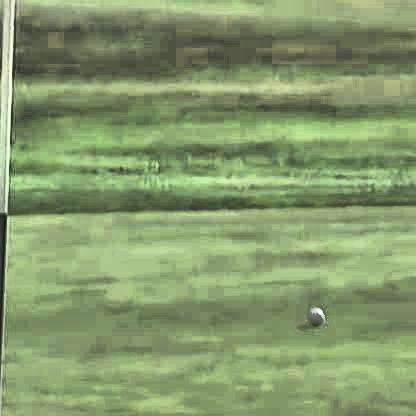golfball: (306, 301, 322, 323)
